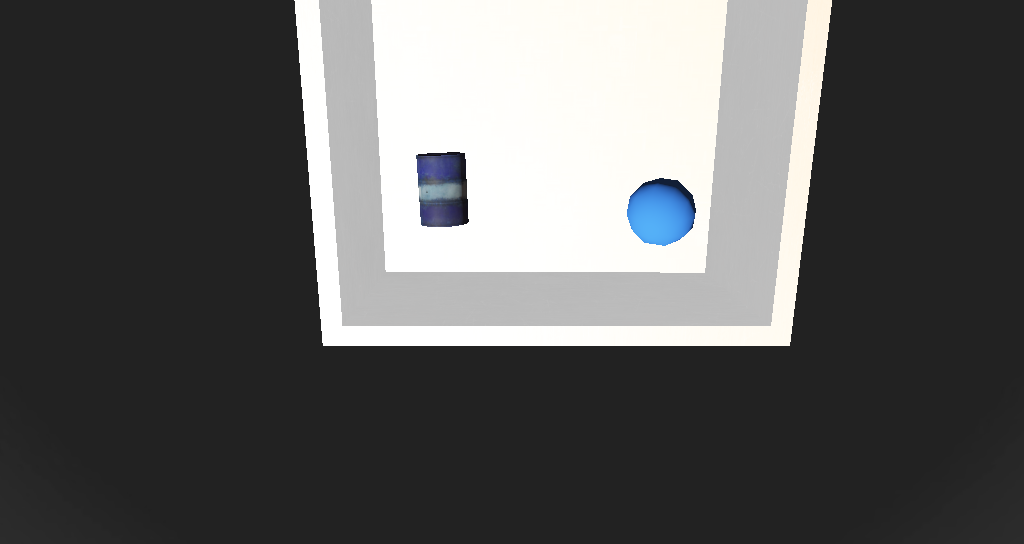cone: (384, 296, 438, 344)
sphere: (583, 310, 643, 358)
